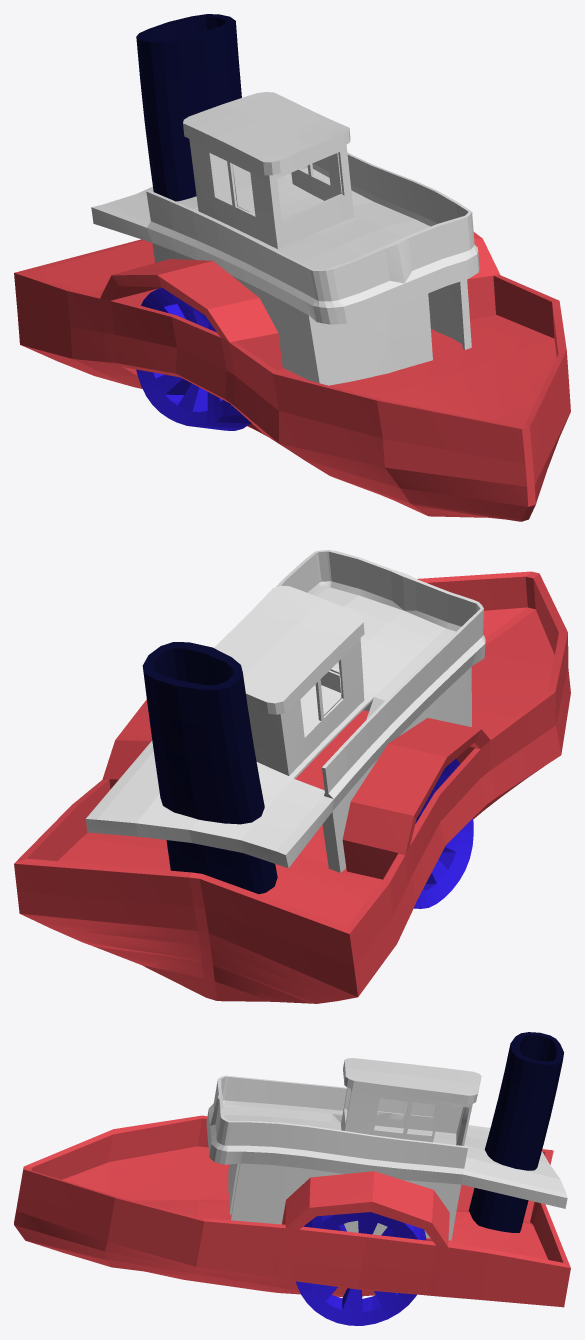
Rendered from Vessel.fbx.
The picture shows the model from 3 angles, top to bottom: view 1: azimuth 30°, elevation 25°; view 2: azimuth 150°, elevation 25°; view 3: azimuth 270°, elevation 25°; orthographic projection. The views are drawn at different scales.
Visible parts, largest first — view 1: Vessel; view 2: Vessel; view 3: Vessel.
Part boxes in pixels (left/top/right/bottom): Vessel: left=14, top=14, right=570, bottom=521; Vessel: left=14, top=550, right=570, bottom=1003; Vessel: left=14, top=1032, right=570, bottom=1325.
Size of the model in its own units: 11.79 by 11.94 by 23.34.
